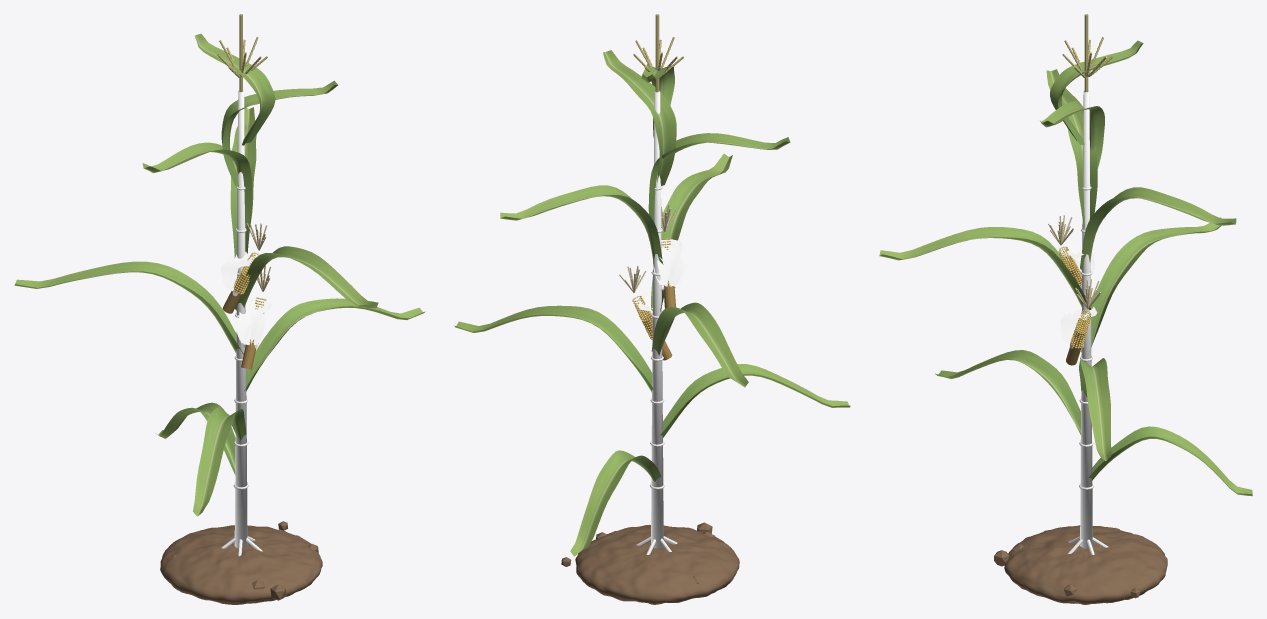
The model's file is milho.glb.
3 views of the same model, side by side, from view 1: azimuth 30°, elevation 25°; view 2: azimuth 150°, elevation 25°; view 3: azimuth 270°, elevation 25° (orthographic).
Parts seen in each view (by area): view 1: Monticulo, Caule, Folha_3, Folha_1, Folha_2, Folha_4, Folha_8, Folha_6, Folha_7, Folha_5, Folha_0, Pendao (+2 smaller); view 2: Monticulo, Caule, Folha_2, Folha_0, Folha_7, Folha_3, Folha_5, Folha_1, Folha_4, Folha_6, Pendao, Folha_8; view 3: Monticulo, Caule, Folha_3, Folha_4, Folha_2, Folha_5, Folha_1, Folha_0, Folha_6, Folha_8, Folha_7, Pendao (+1 smaller).
Boxes of the visible parts, box(x1,y1,x2,y2) form: Monticulo: box(160, 525, 322, 604); Caule: box(234, 90, 247, 548); Folha_3: box(14, 261, 243, 354); Folha_1: box(193, 407, 246, 516); Folha_2: box(244, 298, 425, 391); Folha_4: box(235, 246, 378, 310); Folha_8: box(194, 33, 275, 145); Folha_6: box(142, 142, 252, 226); Folha_7: box(221, 80, 337, 186); Folha_5: box(230, 107, 256, 258); Folha_0: box(155, 402, 235, 475); Pendao: box(217, 14, 267, 92); Monticulo: box(575, 524, 739, 604); Caule: box(651, 90, 663, 548); Folha_2: box(454, 305, 657, 395); Folha_0: box(570, 450, 661, 556); Folha_7: box(603, 50, 676, 186); Folha_3: box(651, 302, 748, 387); Folha_5: box(500, 185, 663, 264); Folha_1: box(659, 364, 850, 437); Folha_4: box(651, 154, 732, 311); Folha_6: box(648, 133, 790, 221); Pendao: box(633, 14, 683, 92); Folha_8: box(641, 64, 674, 137); Monticulo: box(1004, 525, 1167, 604); Caule: box(1080, 90, 1092, 548); Folha_3: box(1080, 217, 1221, 352); Folha_4: box(879, 227, 1091, 310); Folha_2: box(1079, 358, 1111, 461); Folha_5: box(1080, 187, 1236, 270); Folha_1: box(935, 350, 1081, 434); Folha_0: box(1088, 426, 1252, 496); Folha_6: box(1046, 69, 1097, 228); Folha_8: box(1050, 40, 1143, 144); Folha_7: box(1040, 101, 1104, 169); Pendao: box(1062, 14, 1113, 92).
Bounding box in the file's own units: 1.72 × 2.67 × 1.59.
Materials: 8 (1 with a texture image).
